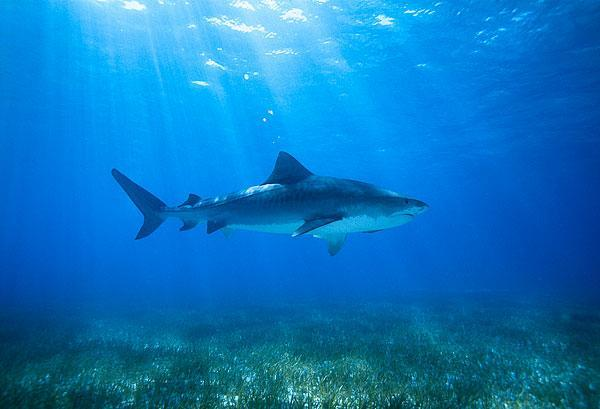fish: (109, 144, 434, 250)
